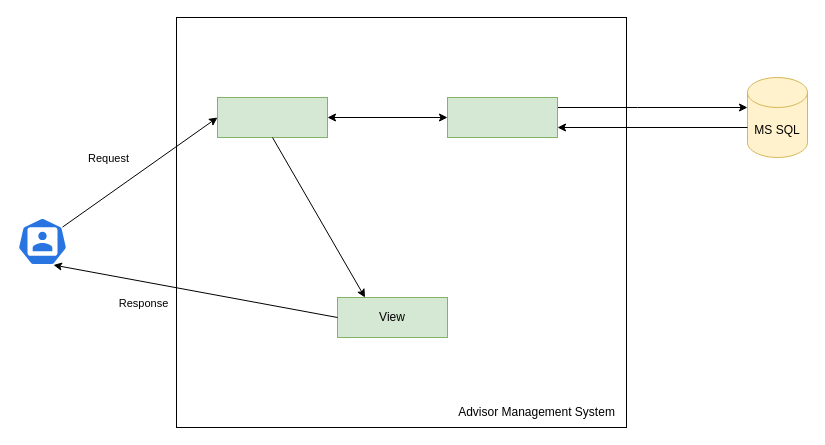
This 825x445 diagram has some shape labels left out. Here are the shapes that lost their labels. From the top down, the centre of each, then its label:
At (x=272, y=117): "Controller".
At (x=502, y=117): "Model".
